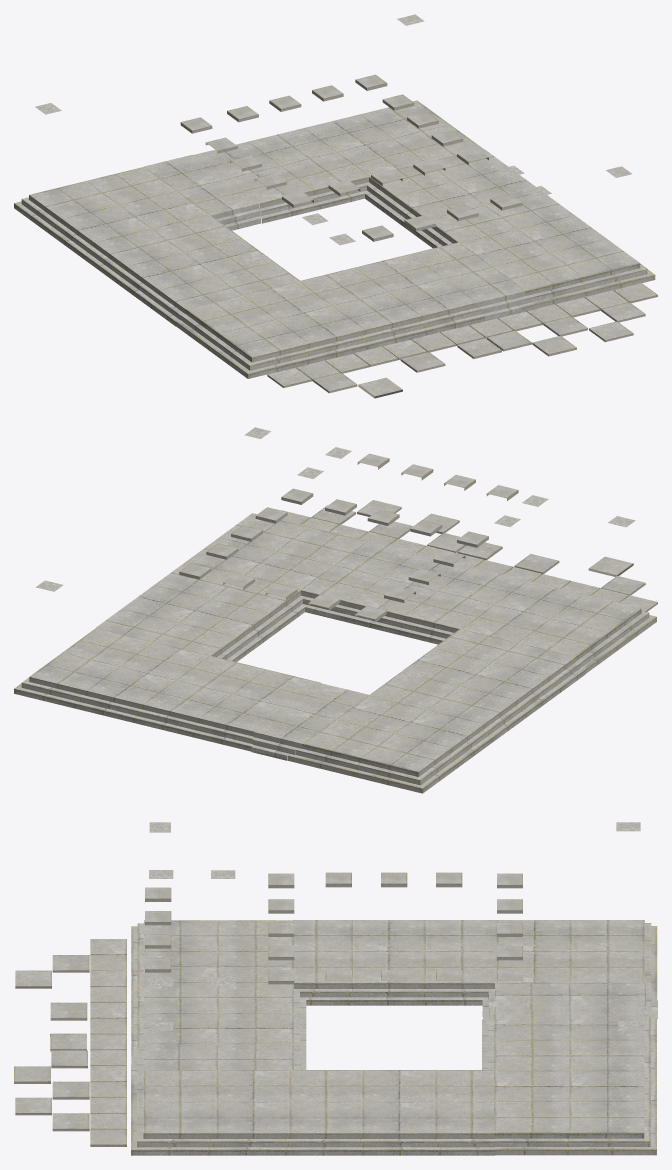
The model's file is hele_gym_tiles.dae.
The picture shows the model from 3 angles, top to bottom: view 1: azimuth 30°, elevation 25°; view 2: azimuth 150°, elevation 25°; view 3: azimuth 270°, elevation 25°; orthographic projection. The views are drawn at different scales.
Parts seen in each view (by area): view 1: stoa_003; view 2: stoa_003; view 3: stoa_003.
Part boxes in pixels (x1,y1,x2,y2): stoa_003: (14,14,657,398); stoa_003: (14,427,657,793); stoa_003: (14,822,657,1155).
Size of the model in its own units: 26.56 by 6.45 by 32.28.
